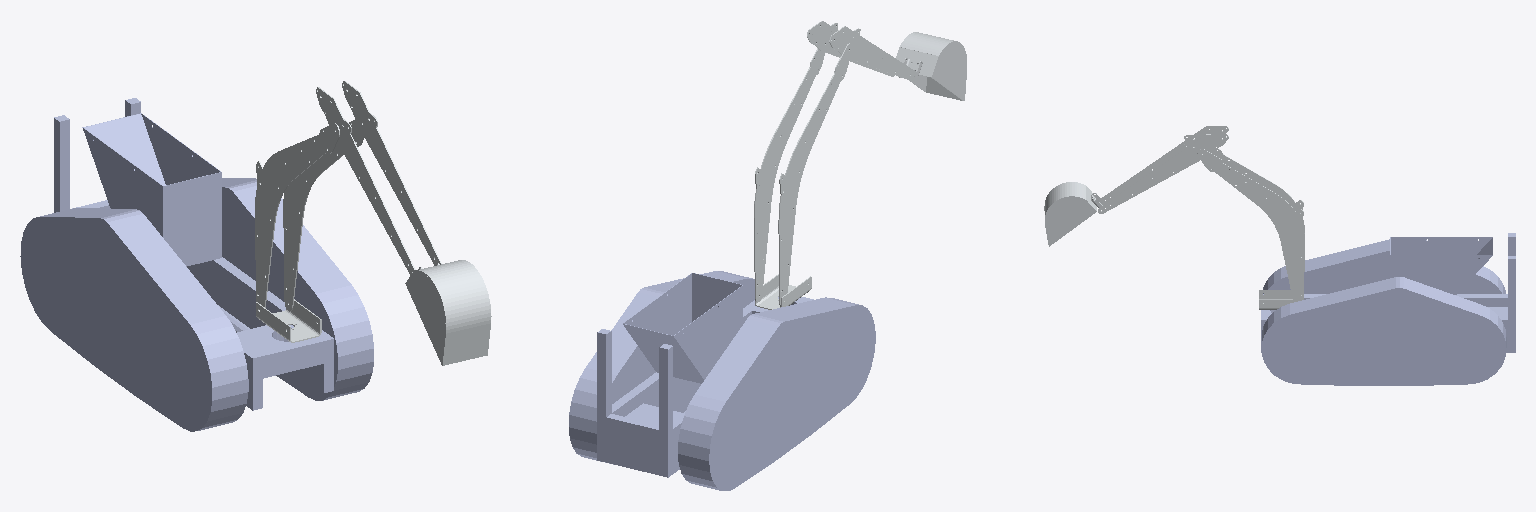
URDF robot description (robot):
<?xml version="1.0"?>
<robot name="robot">
  <!--world link -->
  <link name="base_footprint" />
  
  <joint name="base_footprint_joint" type="fixed">
    <origin xyz="0 0 0.017" rpy="0 0 0" />
    <parent link="base_footprint" />
    <child link="base_link" />
  </joint>

  <!--Drivetrain Link -->
  <link
    name="base_link">
    <inertial>
      <origin
        xyz="-0.000245405735387999 0.176708927673057 0.00200662816430458"
        rpy="0 0 0" />
      <mass
        value="73.1987225940831" />
      <inertia
        ixx="5.44844381853453"
        ixy="0.000530588416338094"
        ixz="0.00684956990429821"
        iyy="4.94620833738639"
        iyz="0.0418907255499782"
        izz="0.794151271490352" />
    </inertial>
    <visual>
      <origin
        xyz="0 0 0"
        rpy="0 0 0" />
      <geometry>
        <mesh
          filename="package://tfr_description/urdf_2021/meshes/base_link.STL" />
      </geometry>
      <material
        name="">
        <color
          rgba="0.792156862745098 0.819607843137255 0.933333333333333 1" />
      </material>
    </visual>
    <collision>
      <origin
        xyz="0 0 0"
        rpy="0 0 0" />
      <geometry>
        <mesh
          filename="package://tfr_description/urdf_2021/meshes/base_link.STL" />
      </geometry>
    </collision>
  </link>

  <!--Turntable link-->
  <link
    name="Turntable_Link">
    <inertial>
      <origin
        xyz="3.91763135820788E-09 0.205567132192906 -0.00190110285770567"
        rpy="0 0 0" />
      <mass
        value="0.227999436482662" />
      <inertia
        ixx="0.000570763969480878"
        ixy="1.48699454009952E-11"
        ixz="2.69155197840914E-12"
        iyy="0.000802639067555957"
        iyz="5.46441695495813E-08"
        izz="0.000323934062677162" />
    </inertial>
    <visual>
<!--        xyz="3.91763135820788E-09 -0.23 0.039" 
      <origin
        xyz="0.029464 -0.23 0.039056"
        rpy="1.57 0 0" /> -->
      <origin
        xyz="0 0 0"
        rpy="0 0 0" />
      <geometry>
        <mesh
          filename="package://tfr_description/urdf_2021/meshes/Turntable_Link.STL" />
      </geometry>
      <material
        name="">
        <color
          rgba="0.898039215686275 0.917647058823529 0.929411764705882 1" />
      </material>
    </visual>
    <collision>
      <origin
        xyz="0 0 0"
        rpy="0 0 0" />
      <geometry>
        <mesh
          filename="package://tfr_description/urdf_2021/meshes/Turntable_Link.STL" />
      </geometry>
    </collision>
  </link>

  <!--Joint: Drivetrain and Turntable -->
  <joint
    name="Turntable"
    type="continuous">
    <origin
      xyz="0.029464 -0.40799 0.059056"
      rpy="1.5708 0 3.1416" />
    <parent
      link="base_link" />
    <child
      link="Turntable_Link" />
    <axis
      xyz="0 -1 0" />
  </joint>

  <!--Lower Arm Link-->
  <link
    name="Lower-Arm_Link">
    <inertial>
      <origin
        xyz="0.233061562897836 0.293782293719561 -9.12156950666487E-10"
        rpy="0 0 0" />
      <mass
        value="0.991682751991289" />
      <inertia
        ixx="0.0085625561640718"
        ixy="-0.0130932756356974"
        ixz="-1.51270777719062E-11"
        iyy="0.0306481453453158"
        iyz="2.88975286149604E-12"
        izz="0.0392090151653679" />
    </inertial>
    <visual>
      <origin
        xyz="0 0 0"
        rpy="0 0 0" />
      <geometry>
        <mesh
          filename="package://tfr_description/urdf_2021/meshes/Lower-Arm_Link.STL" />
      </geometry>
      <material
        name="">
        <color
          rgba="0.898039215686275 0.917647058823529 0.929411764705882 1" />
      </material>
    </visual>
    <collision>
      <origin
        xyz="0 0 0"
        rpy="0 0 0" />
      <geometry>
        <mesh
          filename="package://tfr_description/urdf_2021/meshes/Lower-Arm_Link.STL" />
      </geometry>
    </collision>
  </link>

  <!--Joint: Turntable and Lower Arm-->
  <joint
    name="Lower-Arm"
    type="revolute">
    <axis
      xyz="0 0 1" />
    <limit effort="1000.0" lower="-1.2" upper="0.55" velocity="0.5" />
    <origin
      xyz="0 0.18949 0"
      rpy="1.5708 1 1.5708" />
    <parent
      link="Turntable_Link" />
    <child
      link="Lower-Arm_Link" />
  </joint>

  <!--Upper Arm Link -->
  <link
    name="Upper-Arm_Link">
    <inertial>
      <origin
        xyz="-0.389304198489268 0.236602256783372 1.62407178677659E-09"
        rpy="0 0 0" />
      <mass
        value="0.537973764882104" />
      <inertia
        ixx="0.000176359531021174"
        ixy="0.000243676618961583"
        ixz="1.37699254869698E-11"
        iyy="0.012563907734834"
        iyz="5.41325045272918E-12"
        izz="0.012739343200944" />
    </inertial>
    <visual>
    <origin
      xyz="0.53 -0.22 0"
      rpy="0 0 0" />
      <geometry>
        <mesh
          filename="package://tfr_description/urdf_2021/meshes/Upper-Arm_Link.STL" />
      </geometry>
      <material
        name="">
        <color
          rgba="0.898039215686275 0.917647058823529 0.929411764705882 1" />
      </material>
    </visual>
    <collision>
      <origin
        xyz="0 0 0"
        rpy="0 0 0" />
      <geometry>
        <mesh
          filename="package://tfr_description/urdf_2021/meshes/Upper-Arm_Link.STL" />
      </geometry>
    </collision>
  </link>

  <!--Joint: Lower Arm and Upper Arm-->
  <joint
    name="Upper-Arm"
    type="revolute">
    <limit effort="1000.0" lower="0.98" upper="1.33" velocity="0.5" />
    <origin
      xyz="0.6 0.39 0"
      rpy="0 0 -2.3039" />
    <parent
      link="Lower-Arm_Link" />
    <child
      link="Upper-Arm_Link" />
    <axis
      xyz="0 0 1" />
  </joint>

  <!--Scoop Link -->
  <link
    name="Scoop_Link">
    <inertial>
      <origin
        xyz="0.219598152218763 -0.182686439253031 -1.86898274634473E-11"
        rpy="0 0 0" />
      <mass
        value="0.201108630026289" />
      <inertia
        ixx="0.000208232213351491"
        ixy="-7.29191619926531E-05"
        ixz="5.39582740208427E-18"
        iyy="0.000293811680022154"
        iyz="3.03202611839885E-18"
        izz="0.000367984985857797" />
    </inertial>
    <visual>
      <origin
        xyz="-0.02 -0.22 -0.05"
        rpy="0 135.1 0" />
      <geometry>
        <mesh
          filename="package://tfr_description/urdf_2021/meshes/2020_scoop.STL" scale="0.001 0.001 0.001" />
        <box size="0.15316 0.11473 0.18542" />
      </geometry>
      <material
        name="">
        <color
          rgba="0.894117647058823 0.913725490196078 0.929411764705882 1" />
      </material>
    </visual>
    <collision>
      <origin
        xyz="0 0 0"
        rpy="0 0 0" />
      <geometry>
        <mesh
          filename="package://tfr_description/urdf_2021/meshes/2020_scoop.STL" scale="0.001 0.001 0.001" />
        <box size="0.15316 0.11473 0.18542" />
      </geometry>
    </collision>
  </link>

  <!--Joint: Upper Arm and Scoop-->
  <joint
    name="Scoop"
    type="revolute">
    <limit effort="1000.0" lower="-1.65" upper="0.25" velocity="0.5" />
    <origin
      xyz="0.453 0.01 0"
      rpy="0 0 1.9904" />
    <parent
      link="Upper-Arm_Link" />
    <child
      link="Scoop_Link" />
    <axis
      xyz="0 0 1" />
  </joint>
  
</robot>


--- Facts derived from the render (not from the file) ---
3 views of the same robot in one strip: view 1: azimuth 30°, elevation 25°; view 2: azimuth 150°, elevation 25°; view 3: azimuth 270°, elevation 25° (orthographic).
Robot: robot — 6 links, 5 joints (3 revolute, 1 continuous, 1 fixed); root link base_footprint; default pose: joints at zero except 1 at the middle of their limits (Upper-Arm = 1.16).
Links seen in each view (by area): view 1: base_link, Lower-Arm_Link, Scoop_Link, Upper-Arm_Link, Turntable_Link; view 2: base_link, Lower-Arm_Link, Scoop_Link, Upper-Arm_Link, Turntable_Link; view 3: base_link, Lower-Arm_Link, Upper-Arm_Link, Scoop_Link, Turntable_Link.
Link boxes in pixels (x1=…): base_link: x1=20, y1=98, x2=373, y2=431; Lower-Arm_Link: x1=255, y1=120, x2=364, y2=311; Scoop_Link: x1=405, y1=260, x2=491, y2=365; Upper-Arm_Link: x1=316, y1=81, x2=441, y2=275; Turntable_Link: x1=256, y1=299, x2=321, y2=342; base_link: x1=569, y1=271, x2=875, y2=490; Lower-Arm_Link: x1=754, y1=43, x2=852, y2=307; Scoop_Link: x1=896, y1=32, x2=966, y2=100; Upper-Arm_Link: x1=807, y1=21, x2=918, y2=82; Turntable_Link: x1=755, y1=274, x2=811, y2=309; base_link: x1=1261, y1=233, x2=1515, y2=385; Lower-Arm_Link: x1=1197, y1=147, x2=1304, y2=299; Upper-Arm_Link: x1=1098, y1=126, x2=1228, y2=213; Scoop_Link: x1=1044, y1=182, x2=1102, y2=246; Turntable_Link: x1=1259, y1=290, x2=1301, y2=309.
Size in the robot's own frame: 0.4538 by 1.79 by 0.9808 metres.
Meshes: 5 distinct files referenced, 5 mesh visuals loaded (5 binary STL).